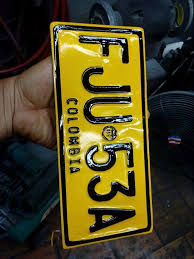placa_moto: (47, 22, 152, 249)
